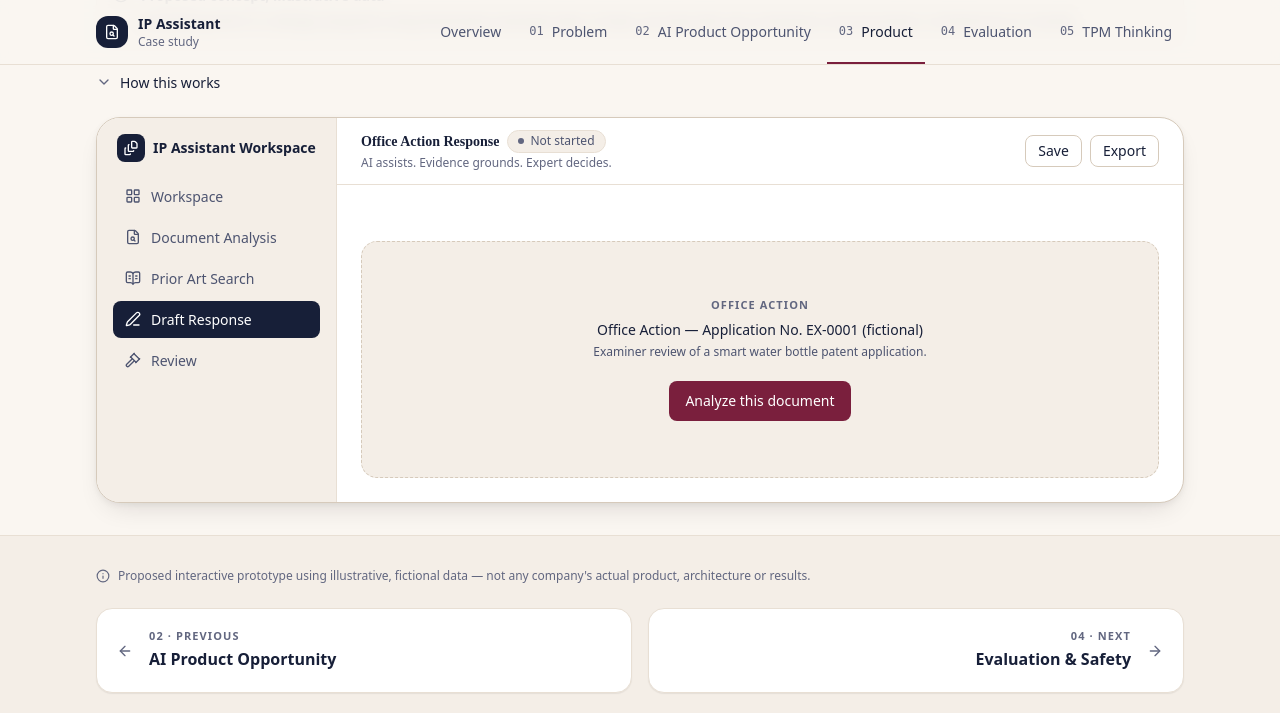
Prototype page › approving without edits shows plain approval, not "with edits"
(page scrolled)
Click the button "Analyze this document".
click(760, 400)  # box [669, 380, 850, 420]
Wait 3900 ms
(page scrolled)
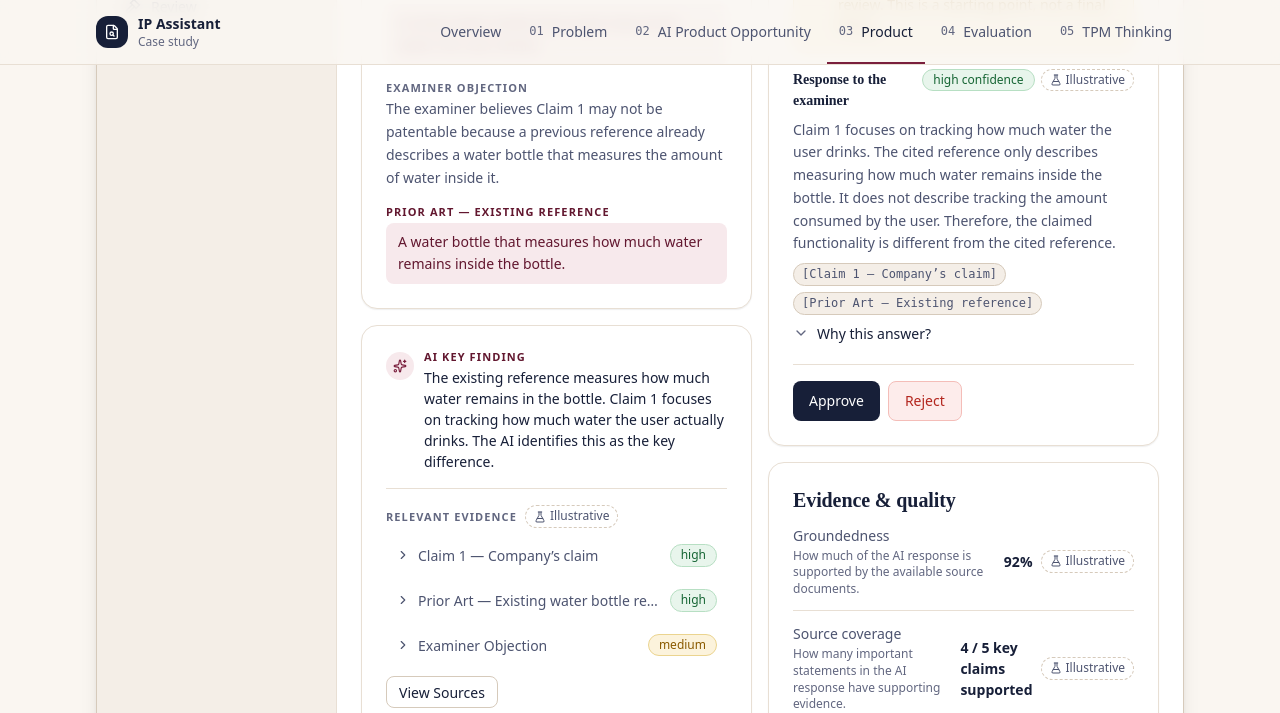
Click the button "Approve".
click(836, 401)  # box [793, 381, 880, 421]
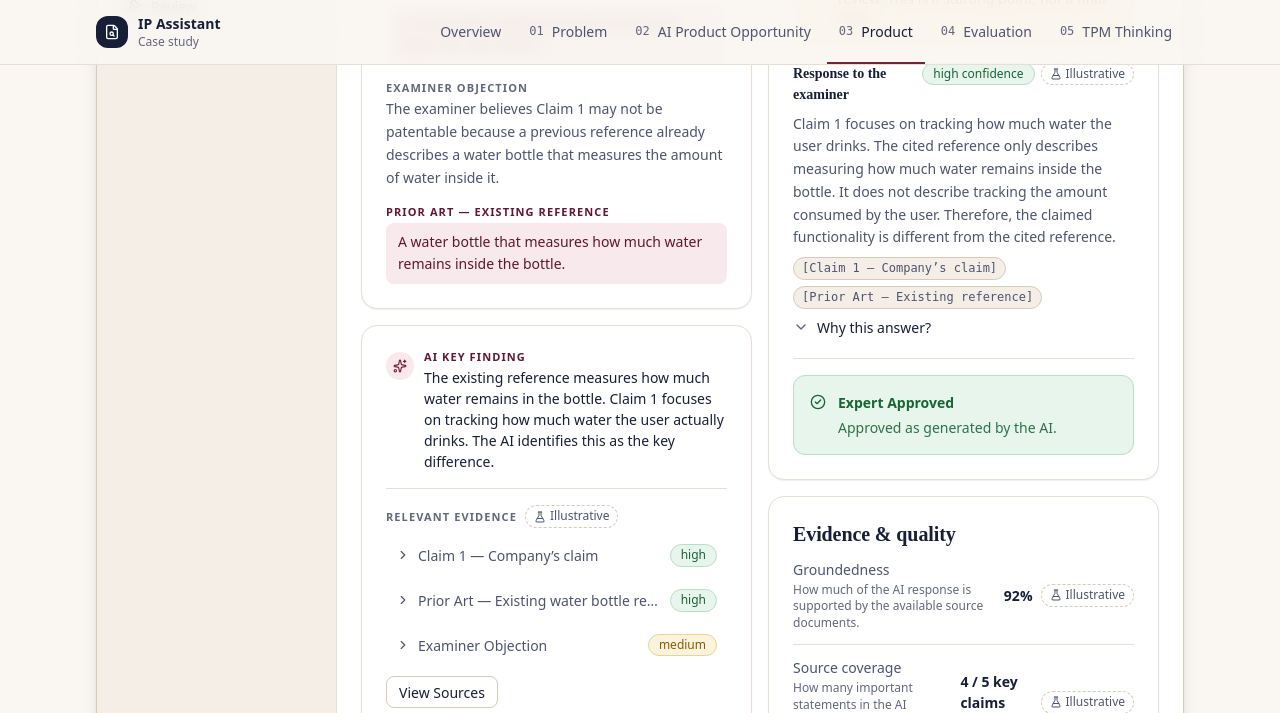
Expected: the text "Approved as generated by the AI." is shown, [838, 417, 1057, 438]
